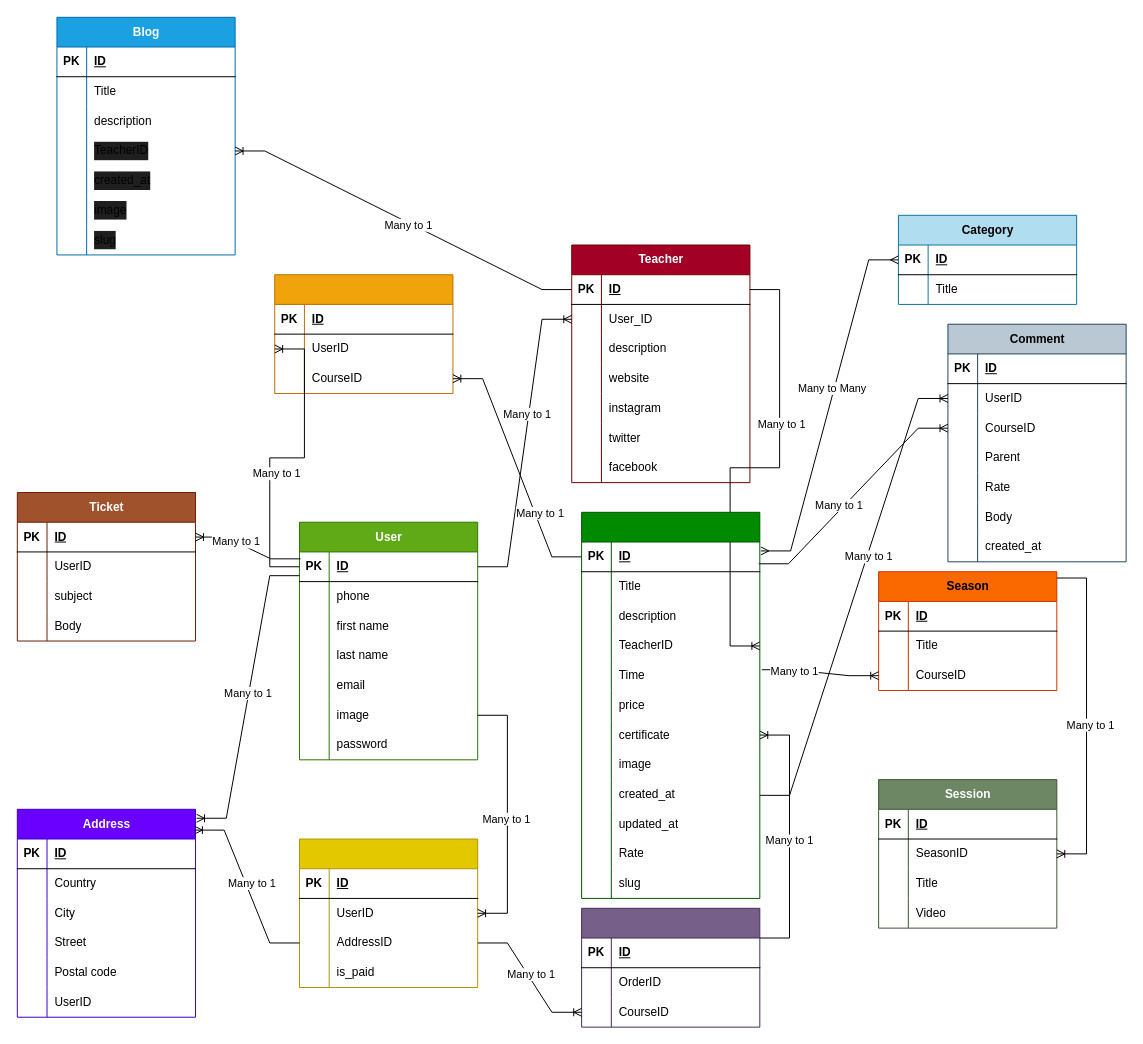
Some shapes in this 1143 by 1044 pixel diagram are drawn without their labels. The box of each missing label's shape, as (x1, y1, x2, y2) in pixels:
Course: (581, 511, 760, 898)
Order: (298, 838, 478, 988)
OrderItem: (581, 907, 760, 1027)
User_course: (274, 274, 453, 394)
